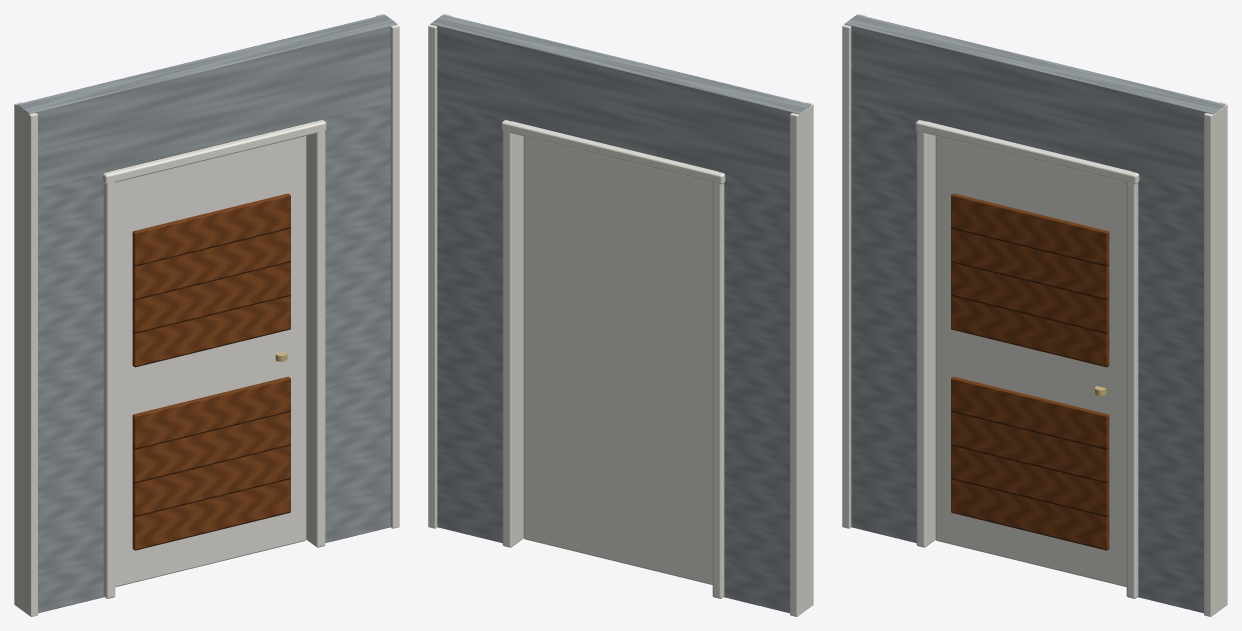
File: paranormal-investigation-house-exterior-door-f3d2b73c__26688.glb
3 renders of one model, left to right at view 1: azimuth 30°, elevation 25°; view 2: azimuth 150°, elevation 25°; view 3: azimuth 330°, elevation 25°, orthographic.
Visible parts, largest first — view 1: exterior-door, door/oakFloor, door/trimWhite; view 2: exterior-door, door/trimWhite; view 3: exterior-door, door/oakFloor, door/trimWhite.
Part boxes in pixels (x1,y1,x2,y2): exterior-door: (14, 14, 399, 616); door/oakFloor: (132, 193, 290, 550); door/trimWhite: (115, 136, 306, 587); exterior-door: (428, 14, 813, 616); door/trimWhite: (523, 136, 712, 584); exterior-door: (842, 14, 1227, 616); door/oakFloor: (951, 193, 1109, 550); door/trimWhite: (935, 136, 1126, 587).
Size of the model in its own units: 2 by 2.61 by 0.18.
4 materials, 2 textured.
